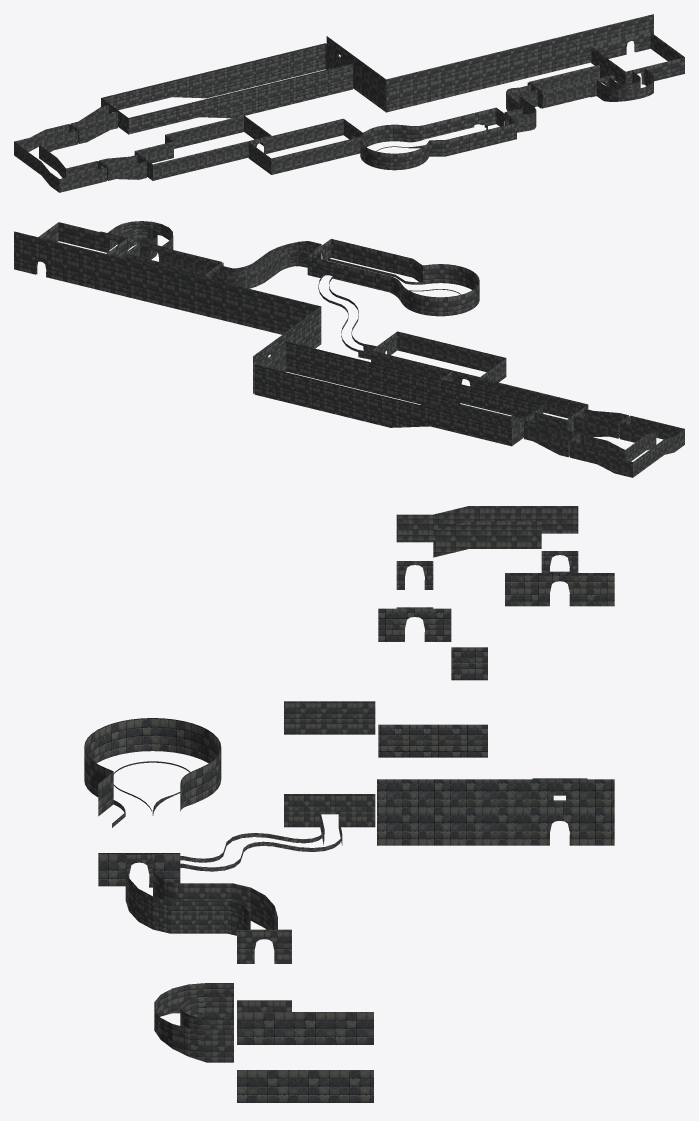
Rendered from Circuit_Walls_Art.FBX.
3 views of the same model, one above another, from view 1: azimuth 30°, elevation 25°; view 2: azimuth 150°, elevation 25°; view 3: azimuth 270°, elevation 25° (orthographic). The views are drawn at different scales.
Parts seen in each view (by area): view 1: Checkpoint4, Checkpoint2_walls, Checkpoint3_walls, Checkpoint003, Checkpoint1_walls; view 2: Checkpoint2_walls, Checkpoint4, Checkpoint3_walls, Checkpoint1_walls, Checkpoint003; view 3: Checkpoint4, Checkpoint3_walls, Checkpoint003, Checkpoint1_walls, Checkpoint2_walls.
Boxes of the visible parts, box(x1,y1,x2,y2) form: Checkpoint4: box(352, 32, 684, 170); Checkpoint2_walls: box(101, 41, 352, 134); Checkpoint3_walls: box(326, 14, 653, 112); Checkpoint003: box(134, 115, 362, 180); Checkpoint1_walls: box(14, 105, 146, 192); Checkpoint2_walls: box(254, 340, 543, 446); Checkpoint4: box(36, 221, 479, 359); Checkpoint3_walls: box(14, 231, 321, 393); Checkpoint1_walls: box(524, 408, 684, 477); Checkpoint003: box(371, 331, 588, 432); Checkpoint4: box(84, 718, 373, 1102); Checkpoint3_walls: box(377, 779, 614, 845); Checkpoint003: box(284, 608, 487, 827); Checkpoint1_walls: box(396, 506, 578, 632); Checkpoint2_walls: box(505, 573, 614, 835).
Size of the model in its own units: 894 by 65.13 by 348.
